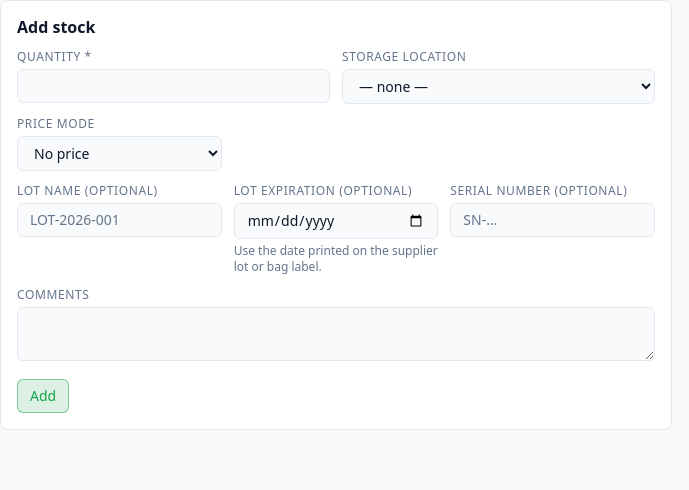
Test: PartAddStock › test_currency_regex rejects non-letter currency codes inline
Type "5" into the number field labelled "Quantity *" at point(174, 86), box [17, 69, 330, 103]
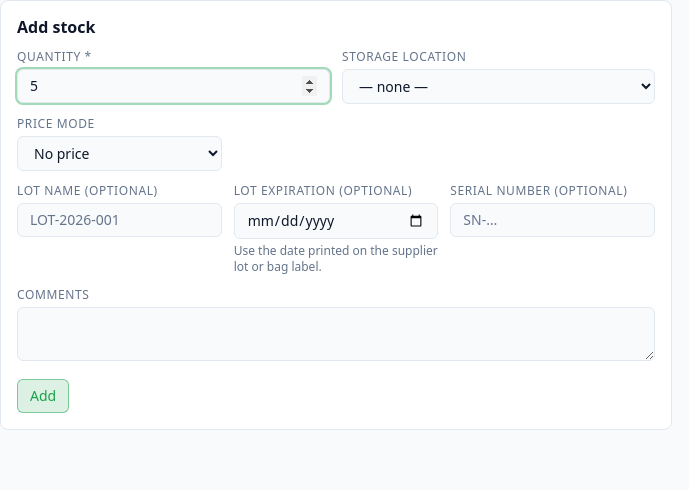
Select "Per component" in the dropdown labelled "Price mode" at point(119, 154), box [17, 136, 222, 171]
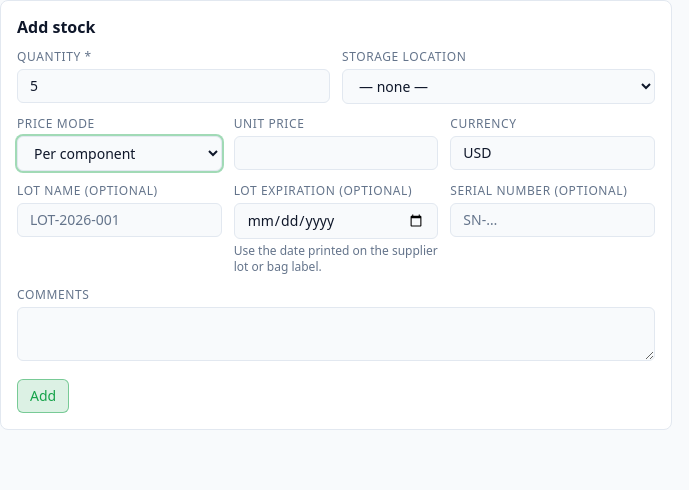
Type "0.12" into the number field labelled "Unit price" at point(336, 153), box [234, 136, 438, 170]
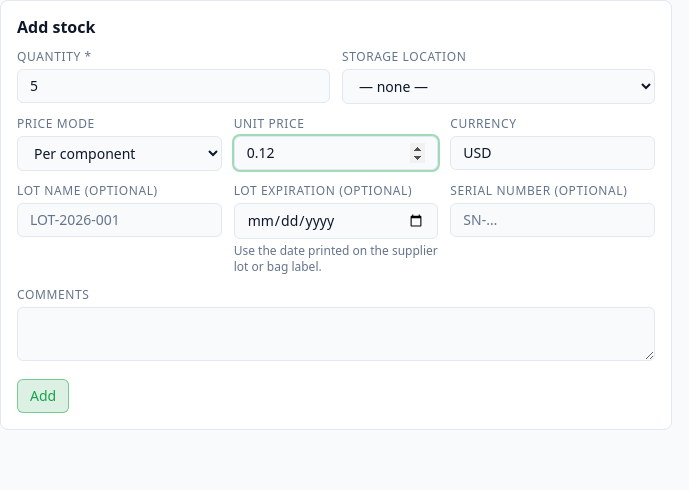
Replace the text in the field labelled "Currency" with "EU1" at point(553, 153), box [450, 136, 655, 170]
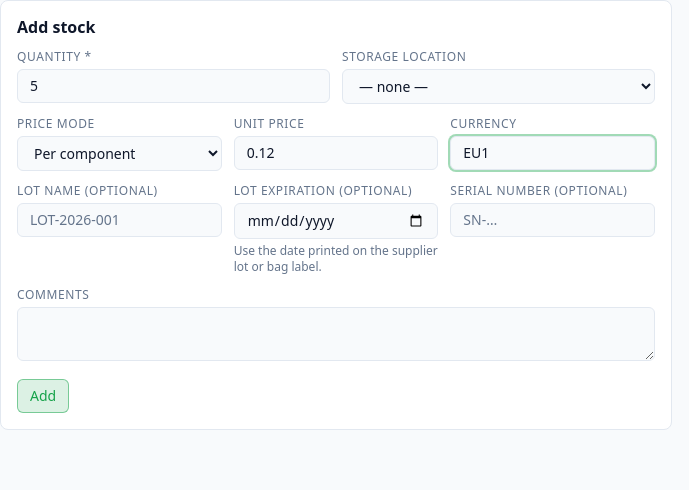
Click the button "Add" at point(43, 396), box [17, 379, 69, 413]
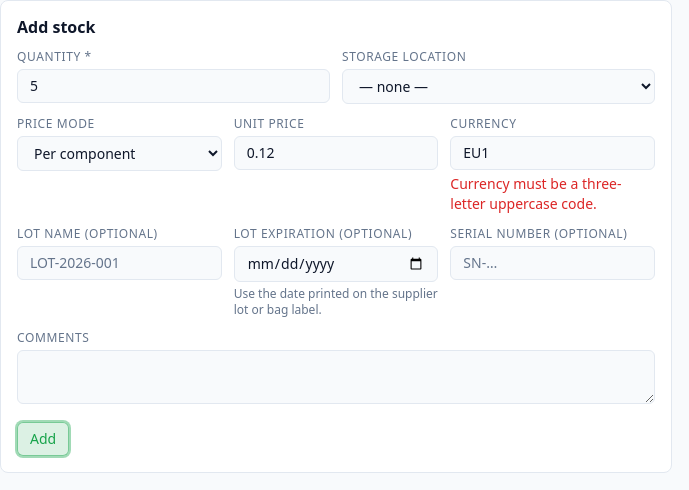
Check: the text "Currency must be a three-letter uppercase code." is shown, box [450, 174, 621, 213]
